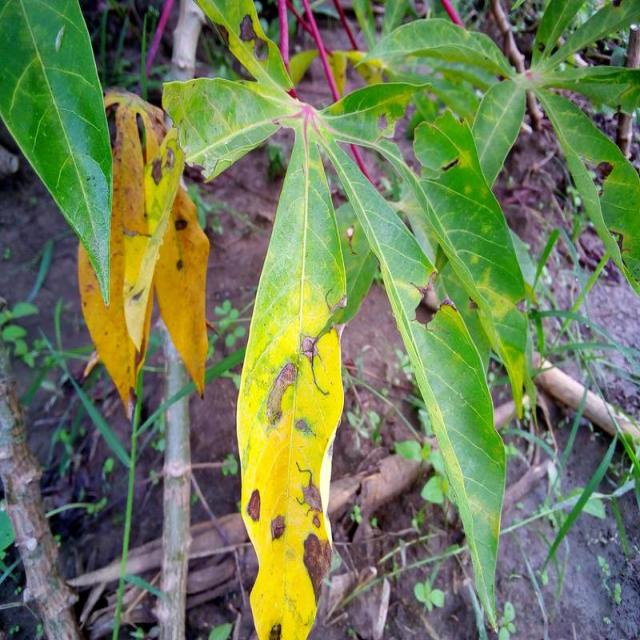cassava leaf: (316, 121, 507, 632), (235, 115, 348, 638), (75, 86, 210, 420), (408, 109, 530, 420), (0, 0, 114, 304)
